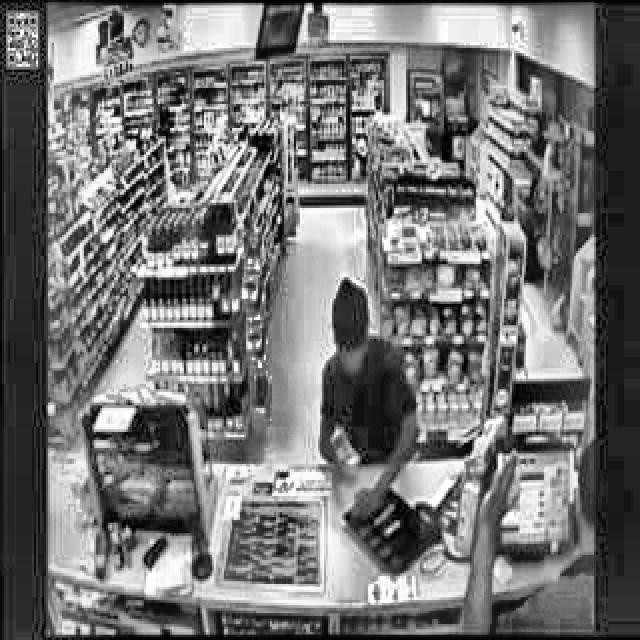robbery: (315, 274, 423, 522), (458, 439, 595, 632)
